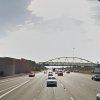Car: (44, 70, 62, 93)
